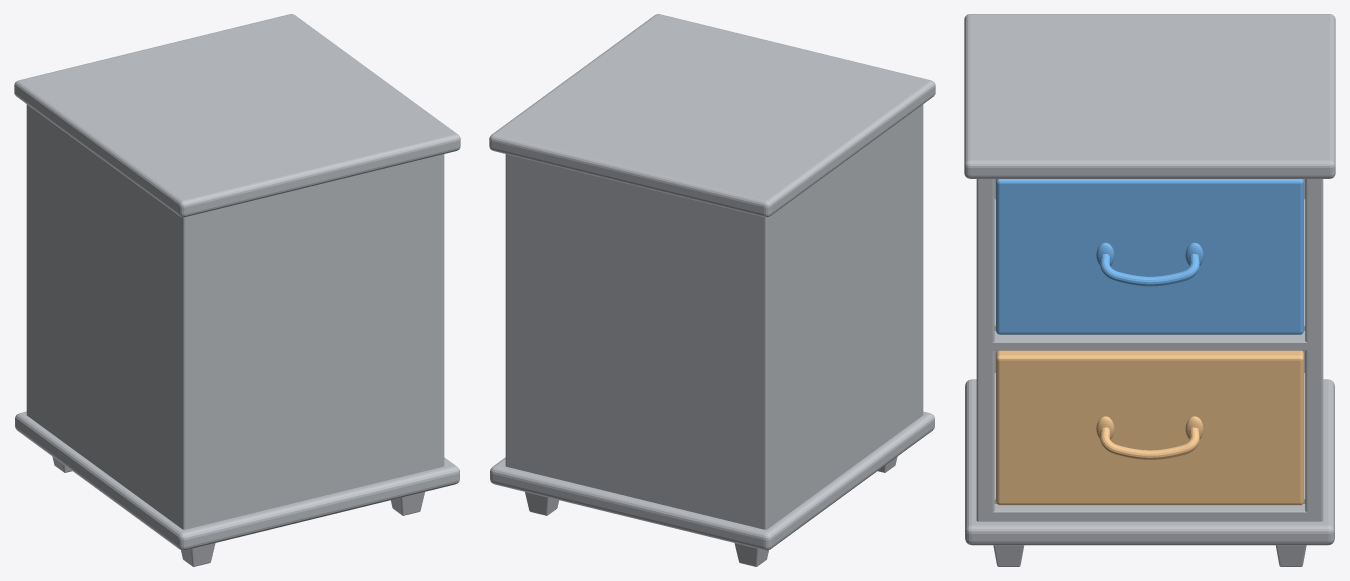
Rendered from parts.glb.
3 renders of one model, left to right at view 1: azimuth 30°, elevation 25°; view 2: azimuth 150°, elevation 25°; view 3: azimuth 270°, elevation 25°, orthographic. The views are drawn at different scales.
Visible parts, largest first — view 1: visual_0_0; view 2: visual_0_0; view 3: visual_0_0, visual_1_0, visual_2_0.
Part boxes in pixels (box(x1,y1,x2,y2)): visual_0_0: box(14, 14, 460, 566); visual_0_0: box(489, 14, 935, 566); visual_0_0: box(964, 14, 1335, 566); visual_1_0: box(996, 179, 1303, 334); visual_2_0: box(996, 350, 1303, 505).
Size of the model in its own units: 0.4534 by 0.56 by 0.45.
